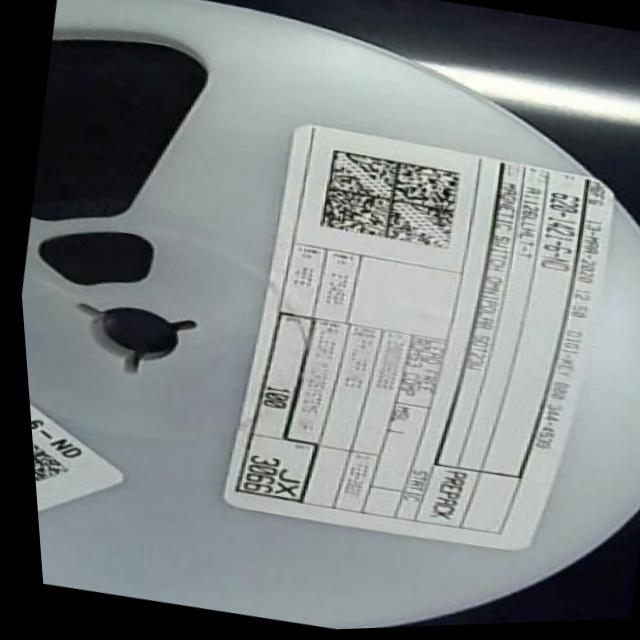datamatrix: (309, 146, 466, 259), (26, 428, 74, 497)
